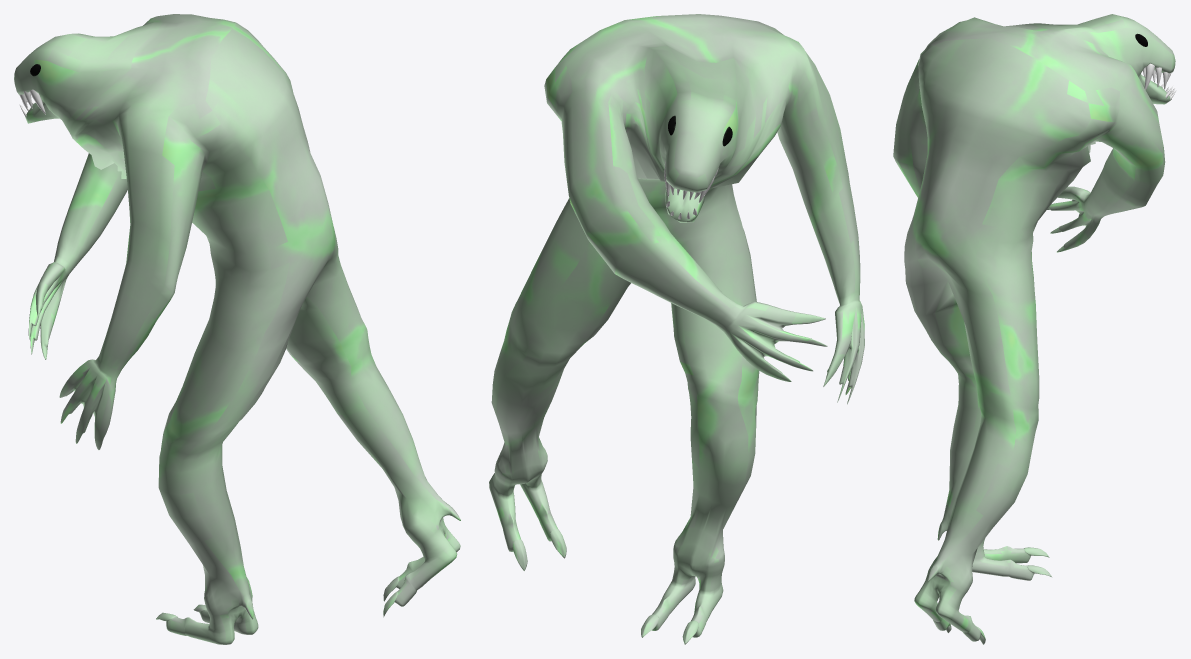
Rendered from Berserkeraranar.0049.obj.
3 renders of one model, left to right at view 1: azimuth 30°, elevation 25°; view 2: azimuth 150°, elevation 25°; view 3: azimuth 270°, elevation 25°, orthographic. The views are drawn at different scales.
Visible parts, largest first — view 1: polySurface27; view 2: polySurface27; view 3: polySurface27.
Boxes of the visible parts, x1=… form: polySurface27: x1=14, y1=14, x2=460, y2=644; polySurface27: x1=489, y1=14, x2=864, y2=644; polySurface27: x1=893, y1=14, x2=1176, y2=644.
Bounding box in the file's own units: 14.51 × 21.64 × 10.34.
1 material, 1 textured.
